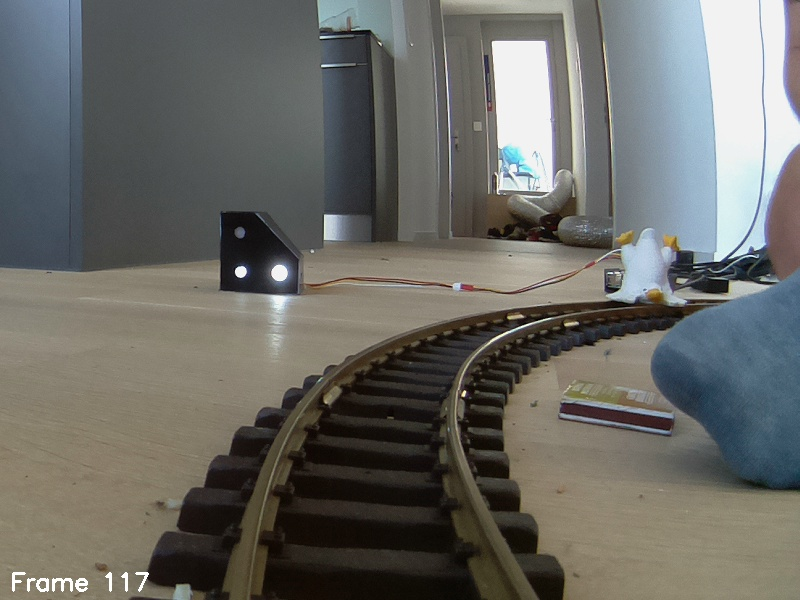Ente: (606, 224, 694, 313)
Halt: (220, 210, 302, 295)
